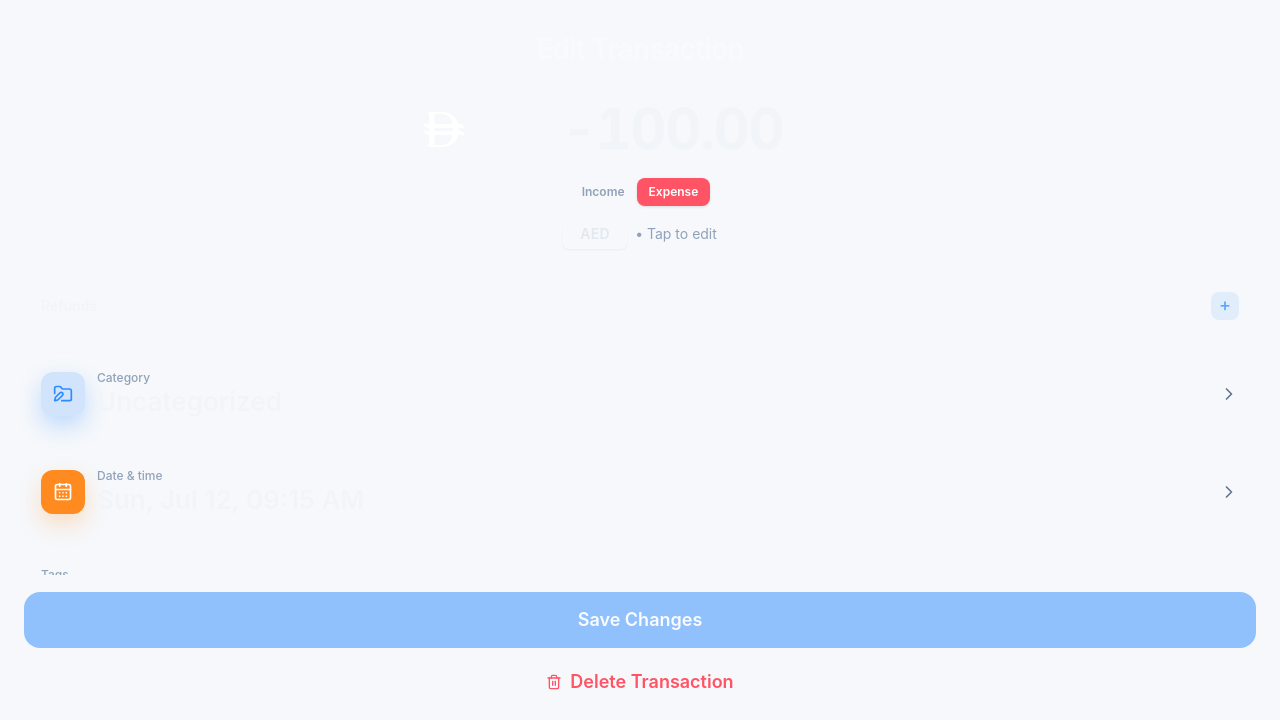
TransactionEditDialog › blocks an over-limit refund without changing the current amount or recorded refunds
Click the button with test id "tx-edit-add-refund": (1225, 306) [1211, 292, 1239, 320]
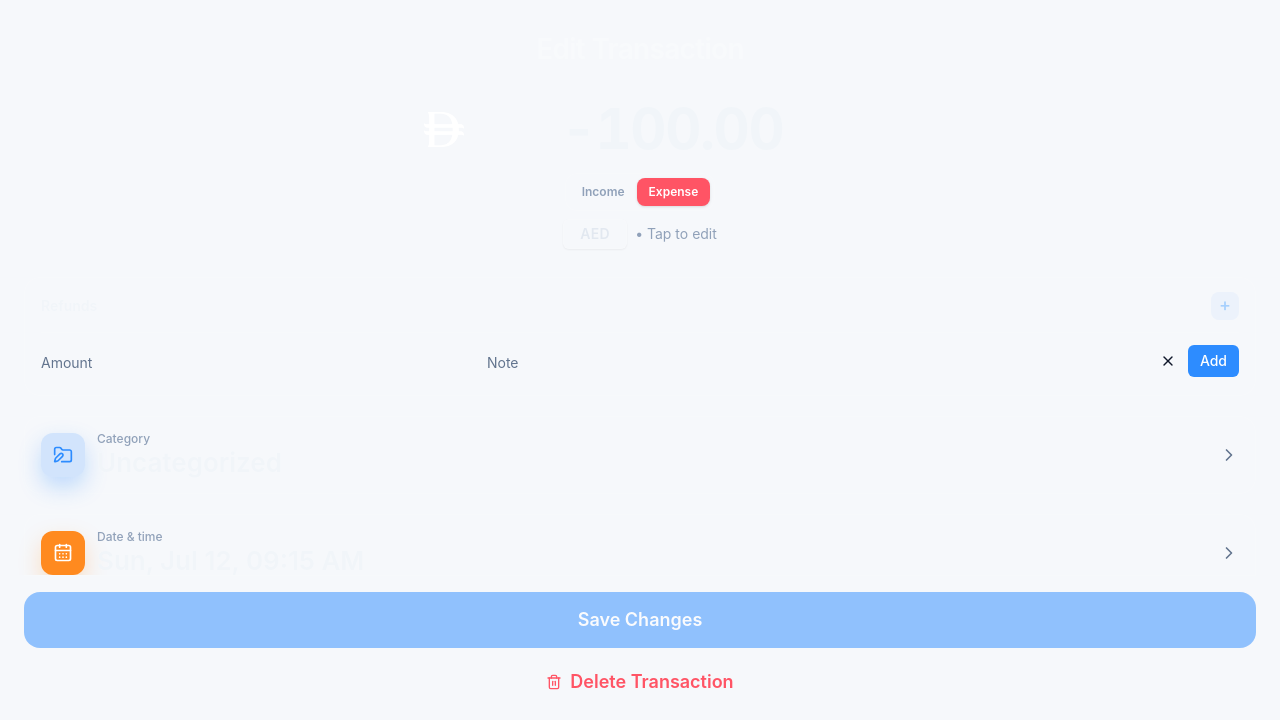
In the field named "Refund amount": (260, 363) [41, 345, 479, 381], type "20"
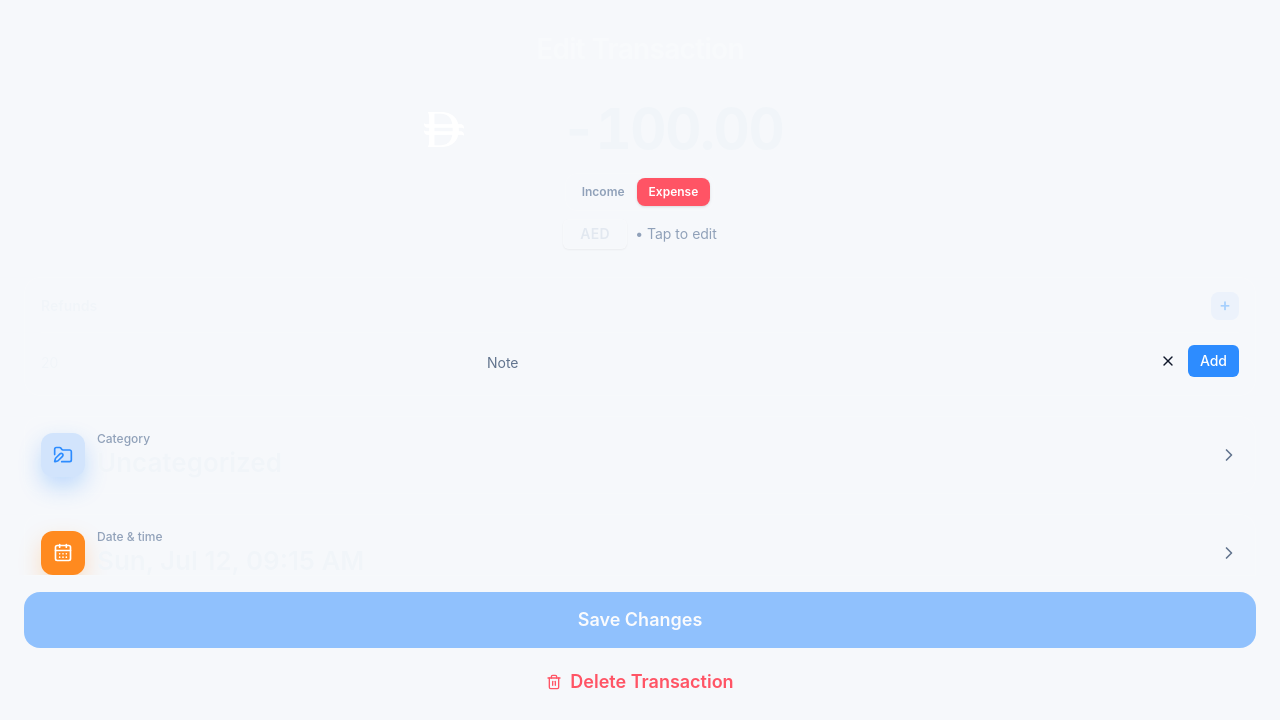
Click the button with aria-label "Confirm refund": (1213, 361) [1188, 345, 1239, 377]
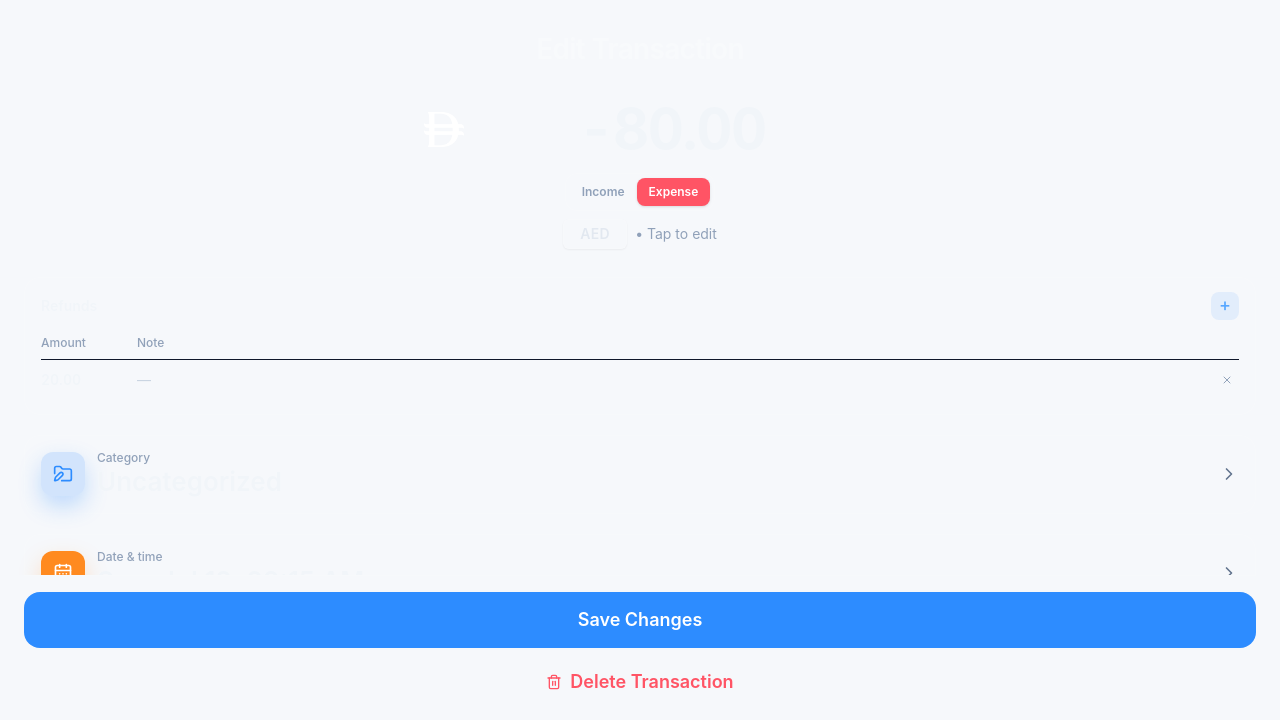
Click the button with test id "tx-edit-add-refund": (1225, 306) [1211, 292, 1239, 320]
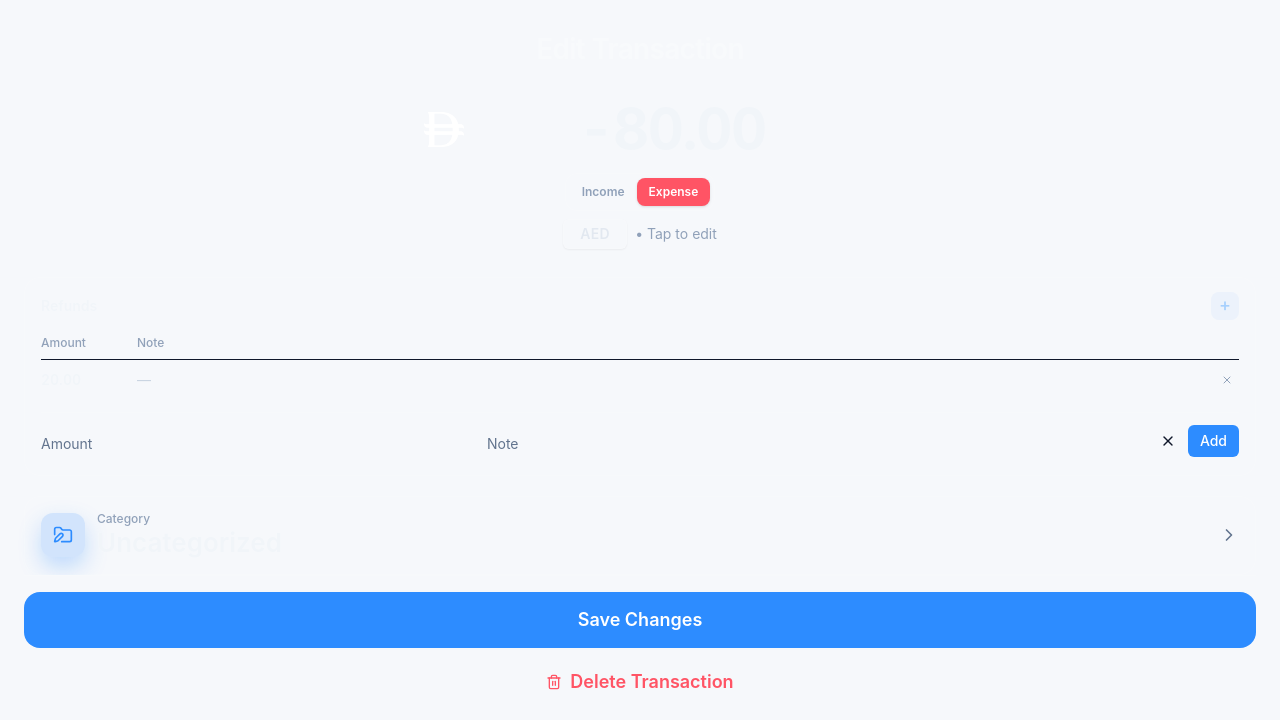
In the field named "Refund amount": (260, 443) [41, 425, 479, 461], type "81"
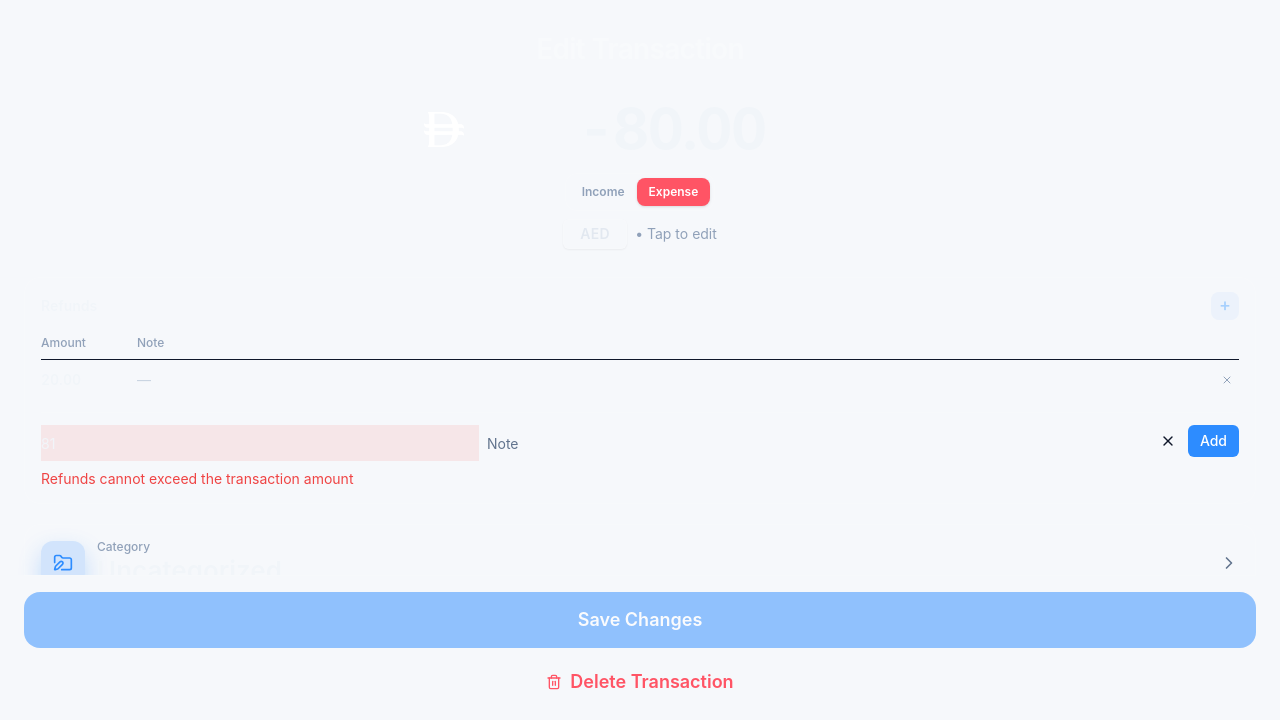
Result: the text "20.00" is shown once at [41, 360, 137, 400]
Result: the text "Refunds cannot exceed the transaction amount" is shown at [41, 470, 354, 487]
Result: the button with test id "tx-edit-save" is disabled at [24, 592, 1256, 648]
